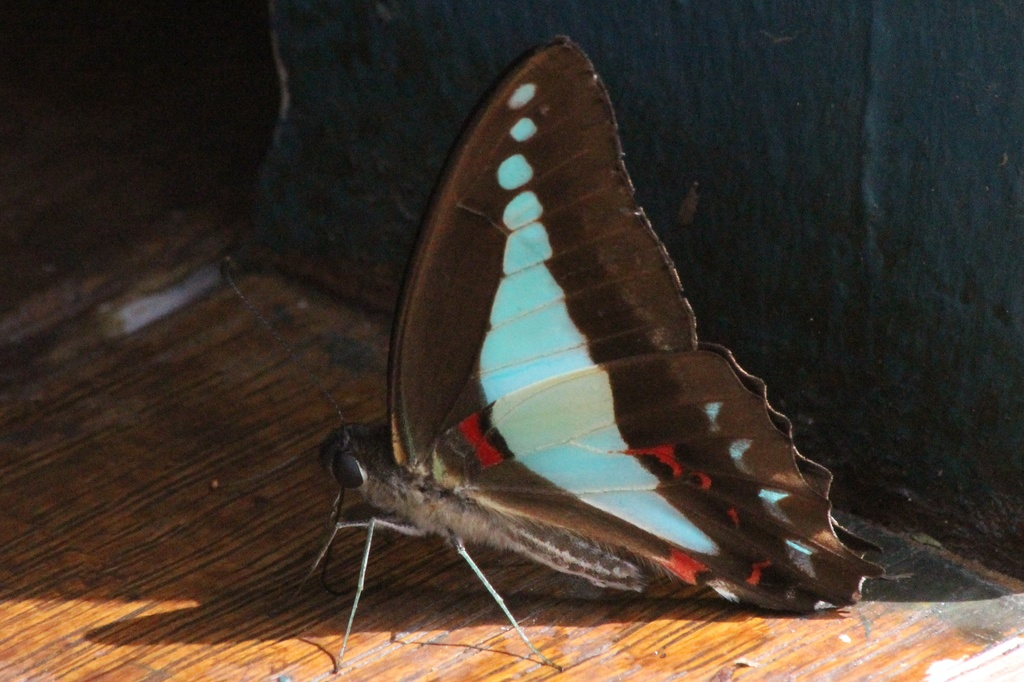Butterfly: (326, 25, 879, 655)
